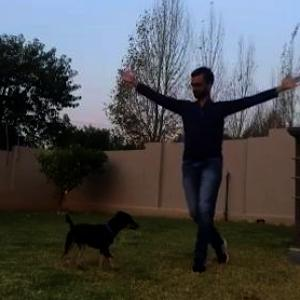takeoff: (112, 50, 297, 275)
